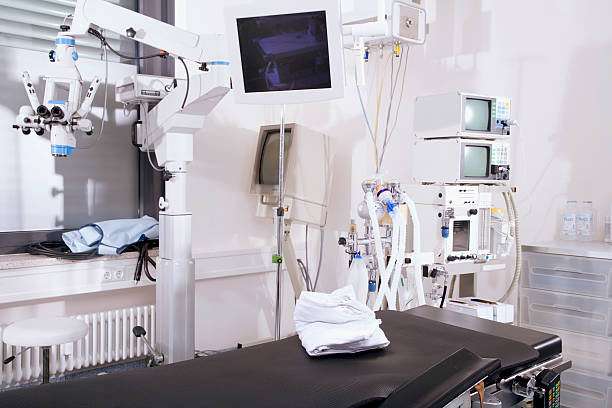bedside_monitor: (221, 1, 347, 106), (248, 119, 339, 230), (415, 138, 514, 183), (414, 93, 513, 138)
breathing_tube: (495, 189, 524, 308)
chair: (1, 317, 90, 383)
medical_drawer: (523, 243, 612, 408)
operating_bed: (1, 305, 574, 408)
ventilator: (361, 180, 507, 317)
